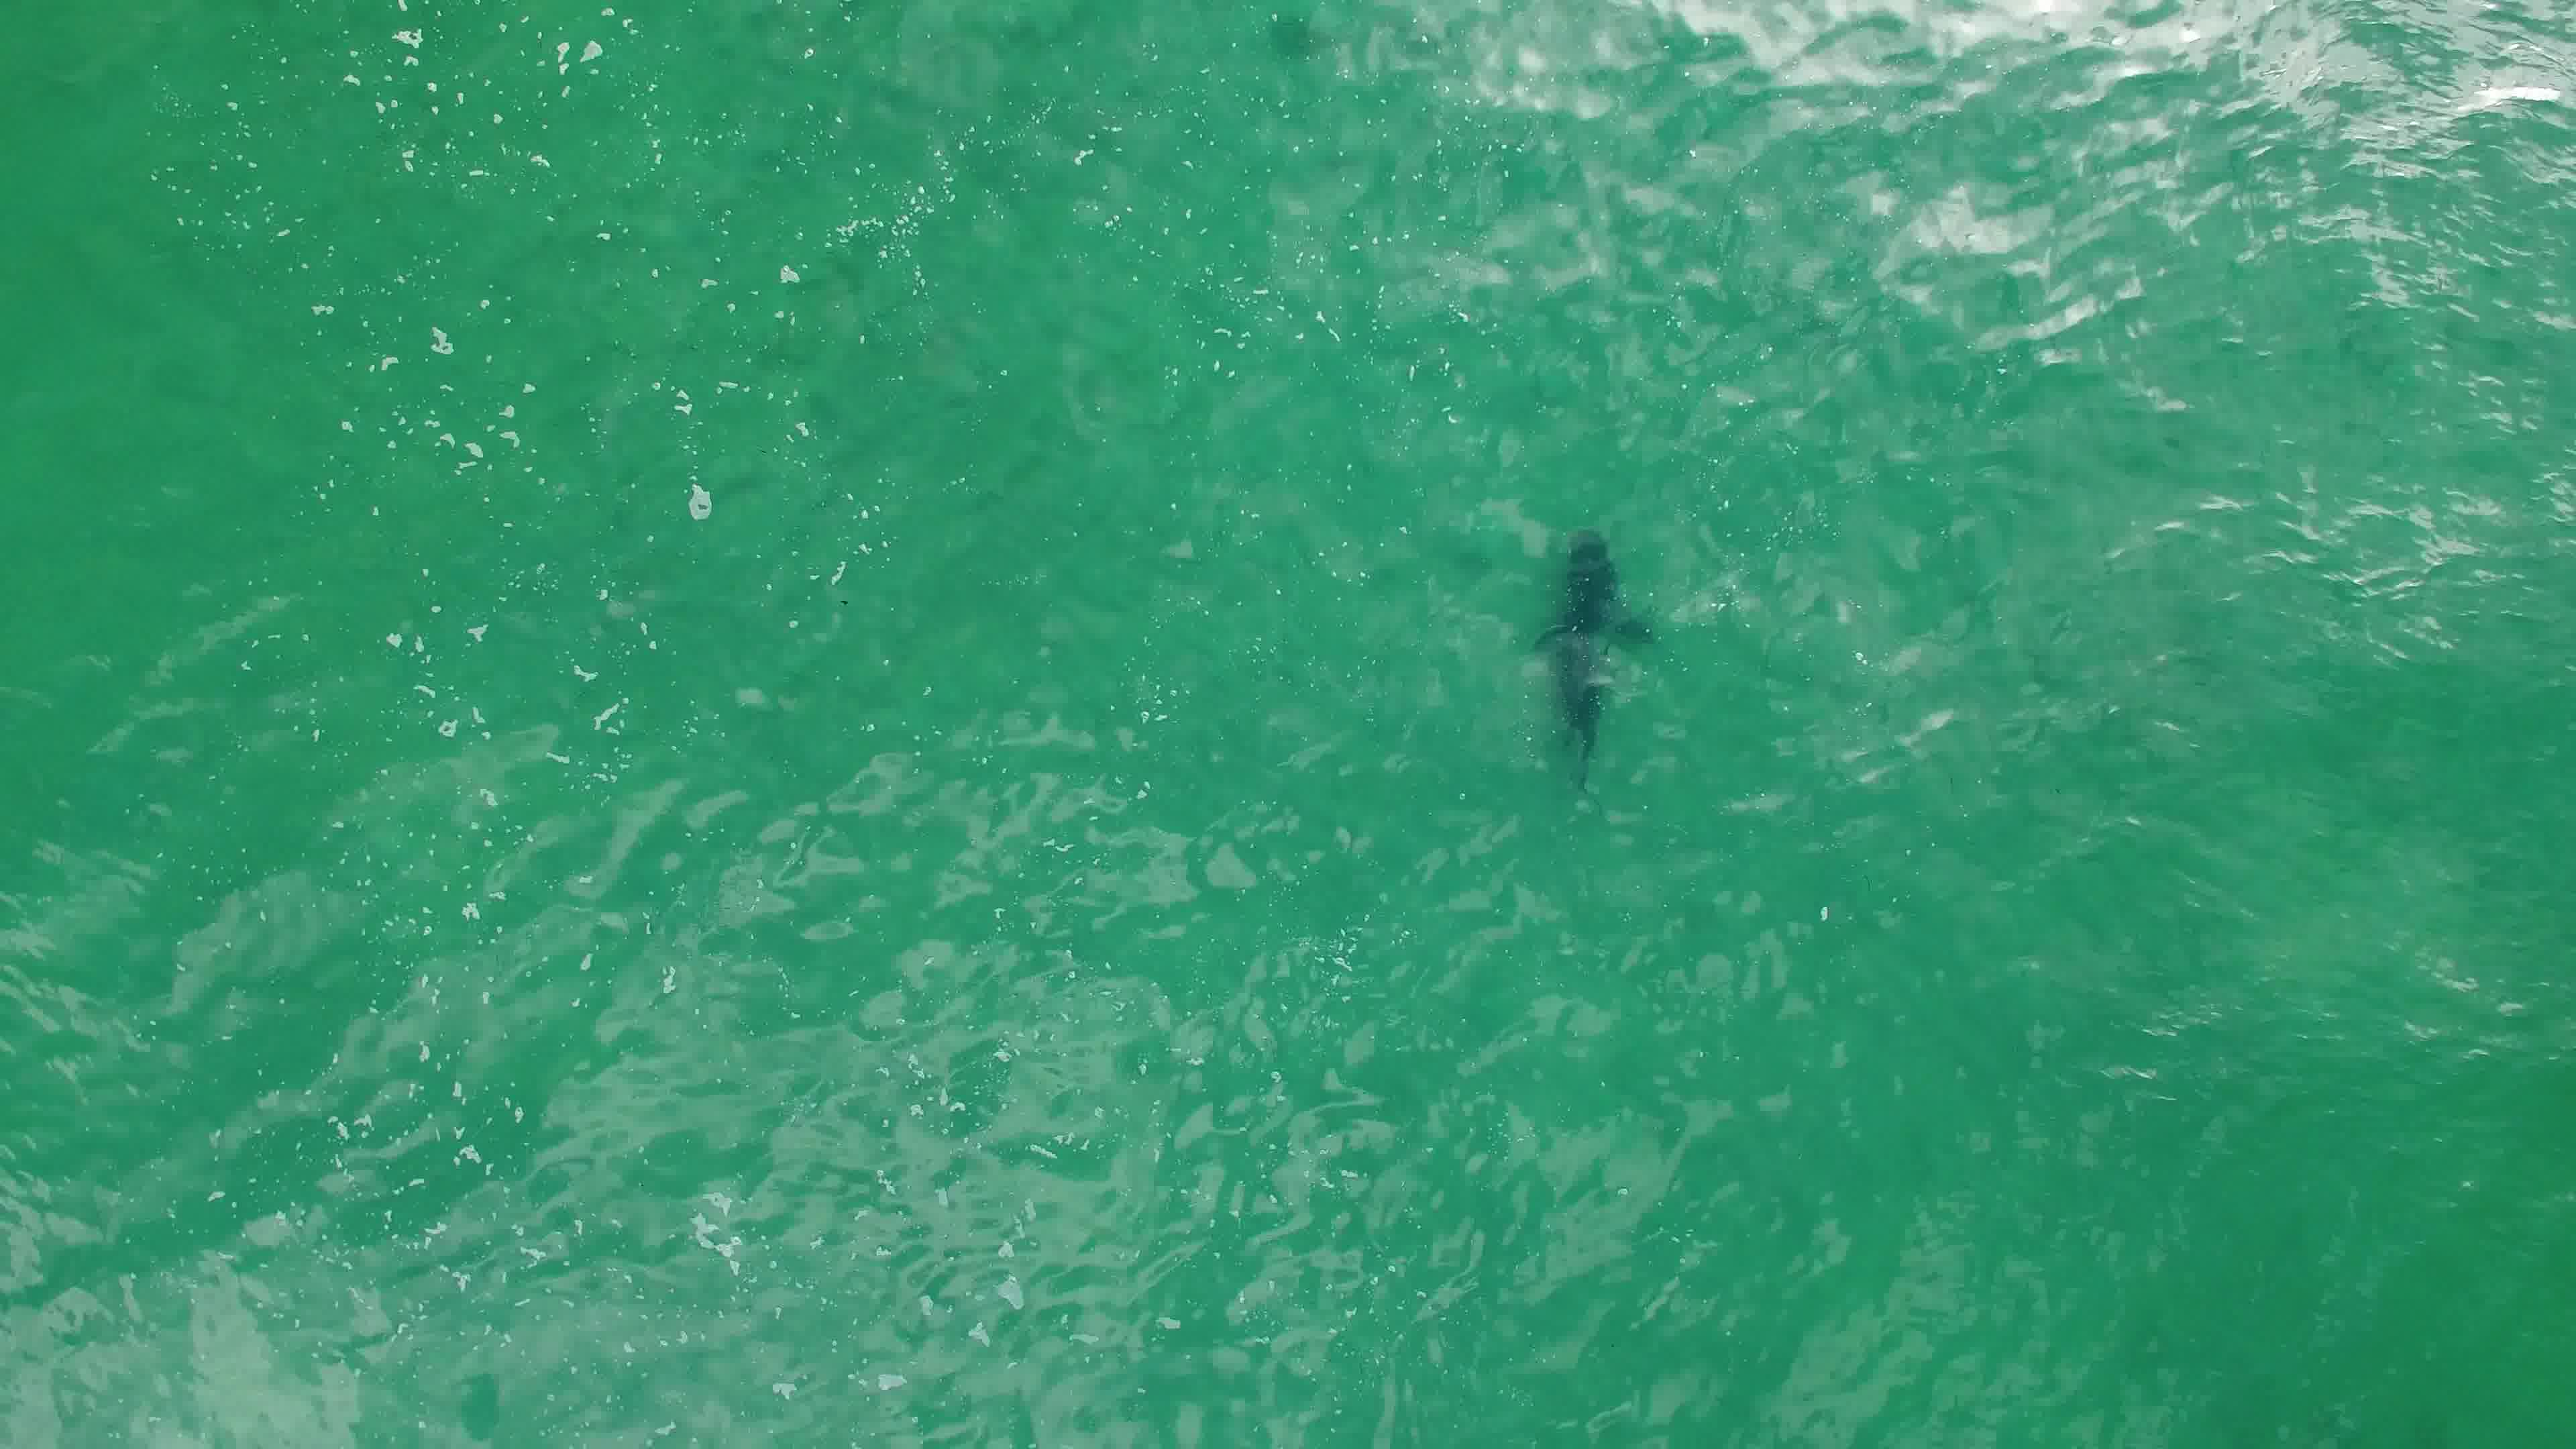shark: (1523, 518, 1663, 786)
